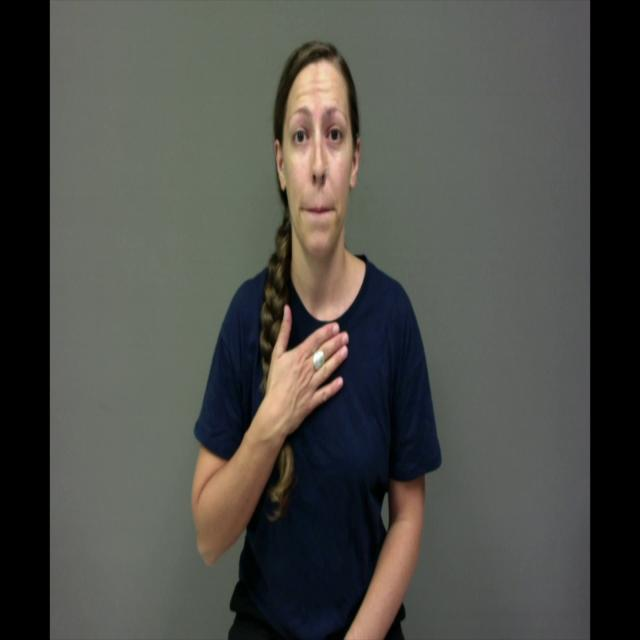please: (265, 302, 352, 430)
